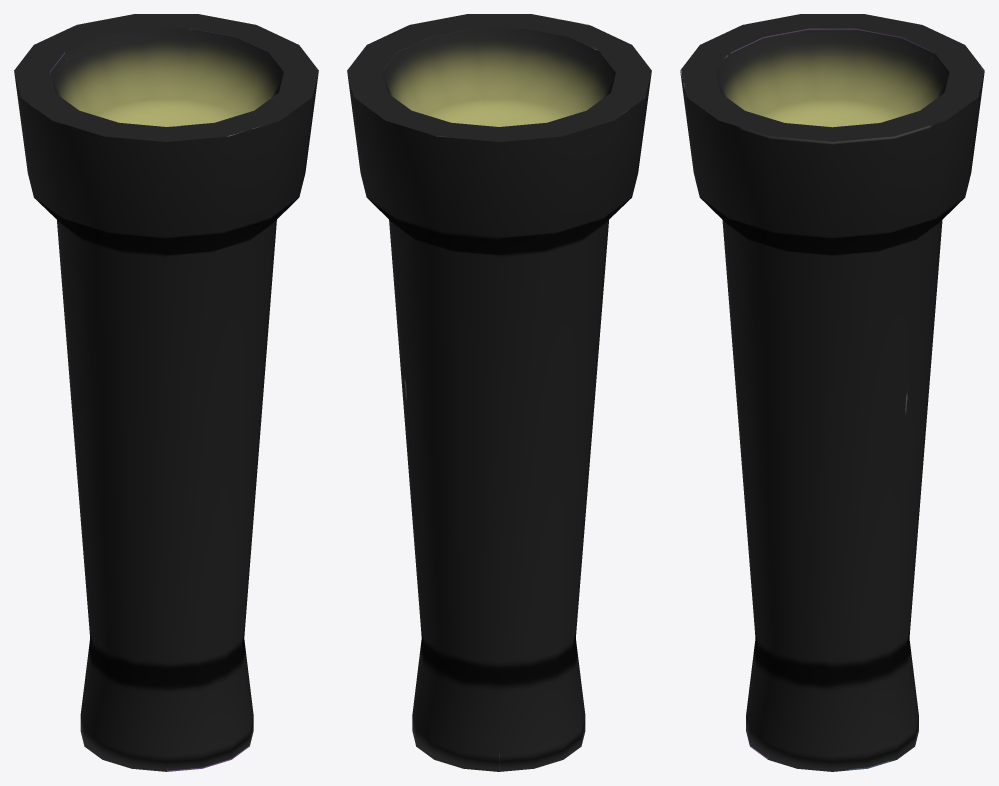
File: flashlight.fbx
3 views of the same model, side by side, from view 1: azimuth 30°, elevation 25°; view 2: azimuth 150°, elevation 25°; view 3: azimuth 270°, elevation 25° (orthographic).
Parts seen in each view (by area): view 1: polySurface8; view 2: polySurface8; view 3: polySurface8.
Boxes of the visible parts, left/top/right/bottom form: polySurface8: left=14, top=14, right=318, bottom=771; polySurface8: left=347, top=14, right=651, bottom=771; polySurface8: left=680, top=14, right=984, bottom=771.
Size of the model in its own units: 0.1906 by 0.4565 by 0.1917.
Materials: 1 (1 with a texture image).
